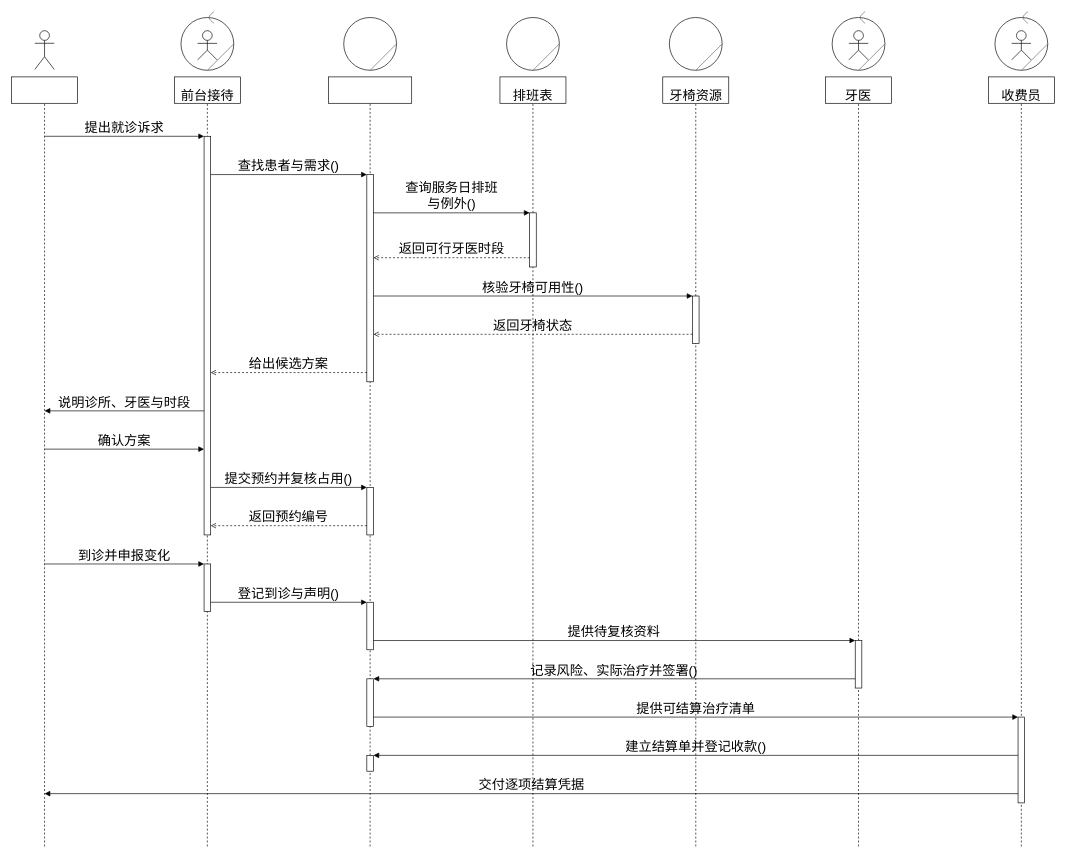
Image size: 1066x861. Some labels were removed from this diagram. The shapes that lost their labels are listed below. From the top down, each one's centre as x and y in pixels, then its label:
pixel 44 89: 患者
pixel 370 89: ADC Nexus
